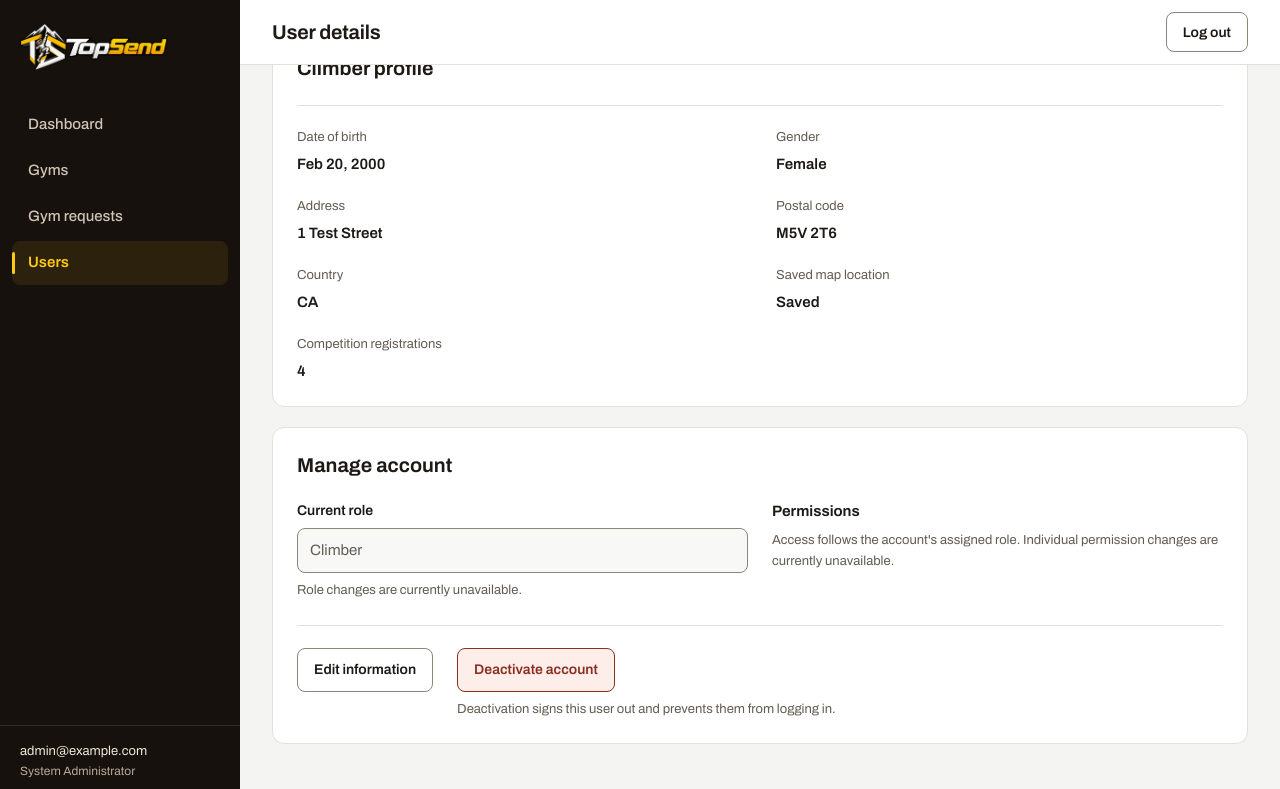
Test: US-009 selected profile editing and status controls › saves only selected-user changes, reloads authoritative details and preserves the return filters
(page scrolled)
Click the button "Edit information" at (365, 670), box [297, 648, 433, 692]
(page scrolled)
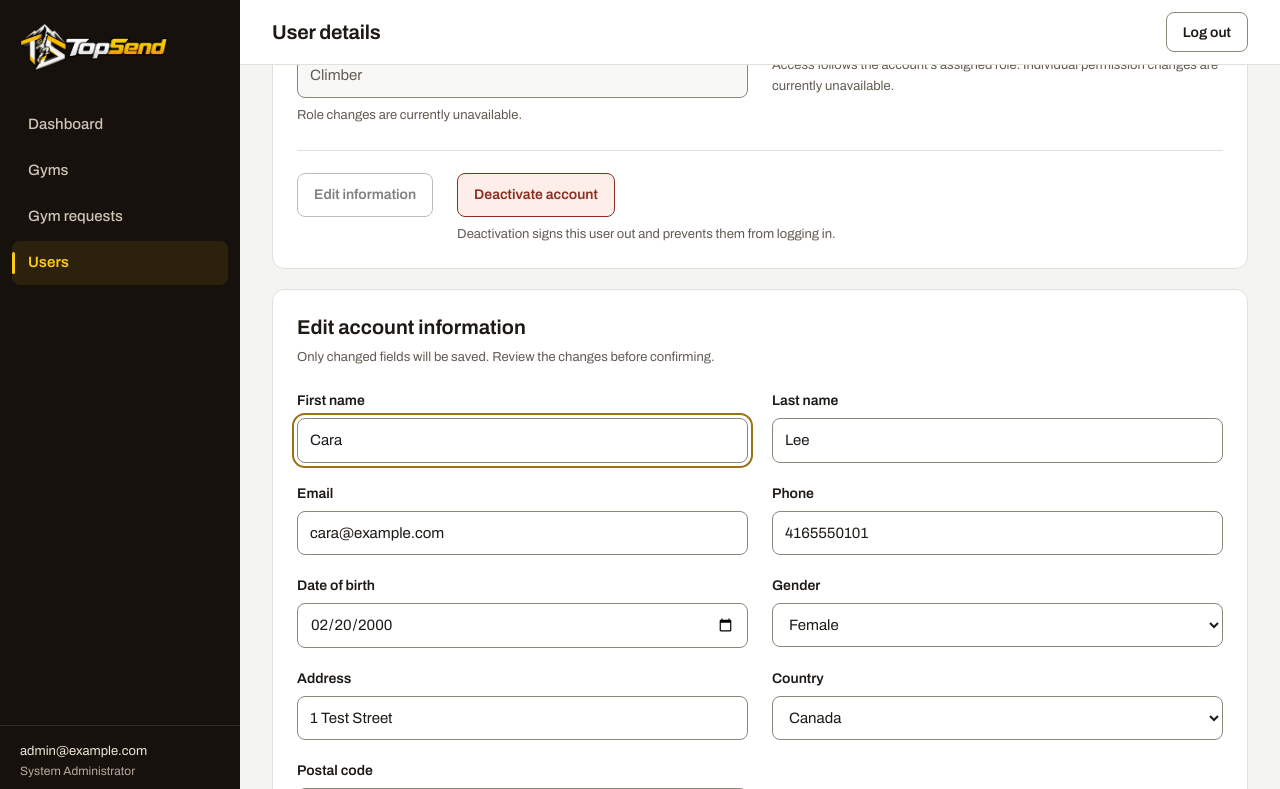
Replace the text in the field labelled "First name" with "Jordan" at (522, 441), box [297, 418, 748, 463]
(page scrolled)
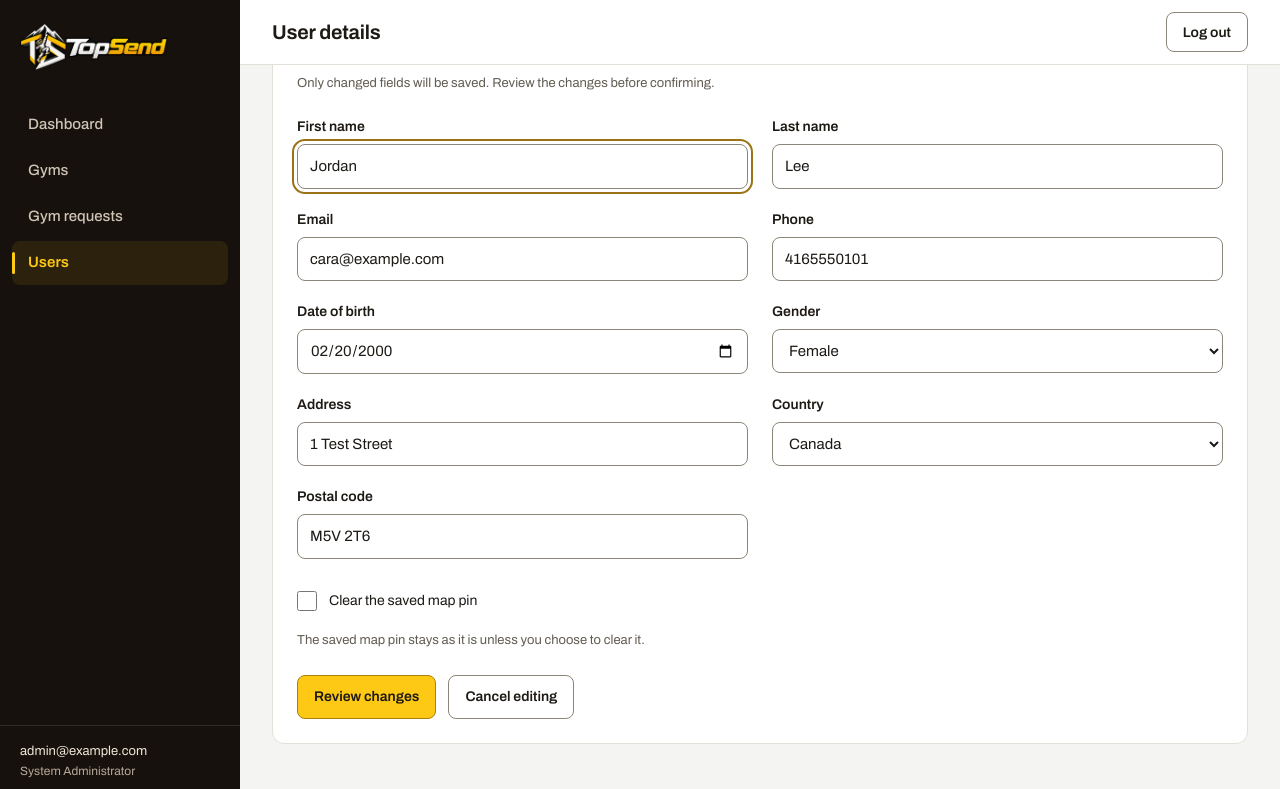
Click the button "Review changes" at (367, 697), box [297, 675, 436, 719]
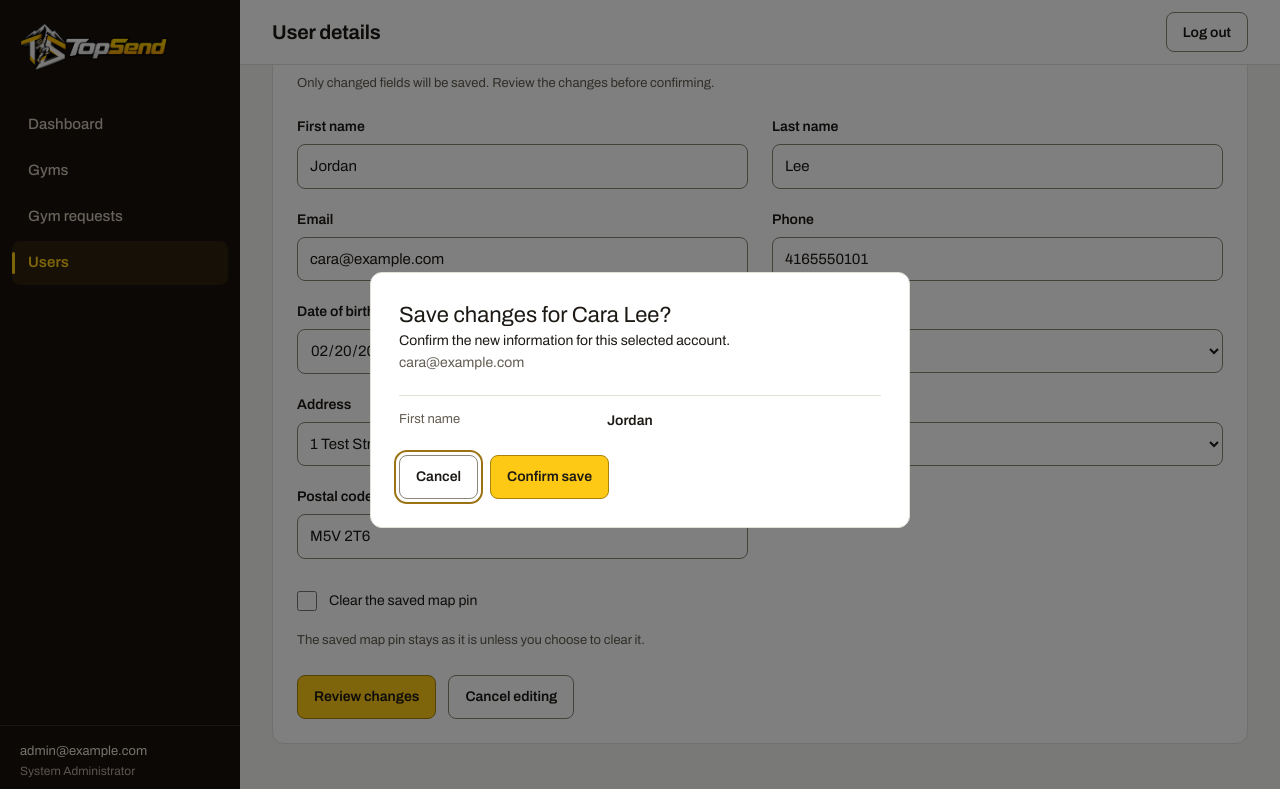
Click the button "Confirm save" at (550, 477), box [490, 455, 609, 499]
(page scrolled)
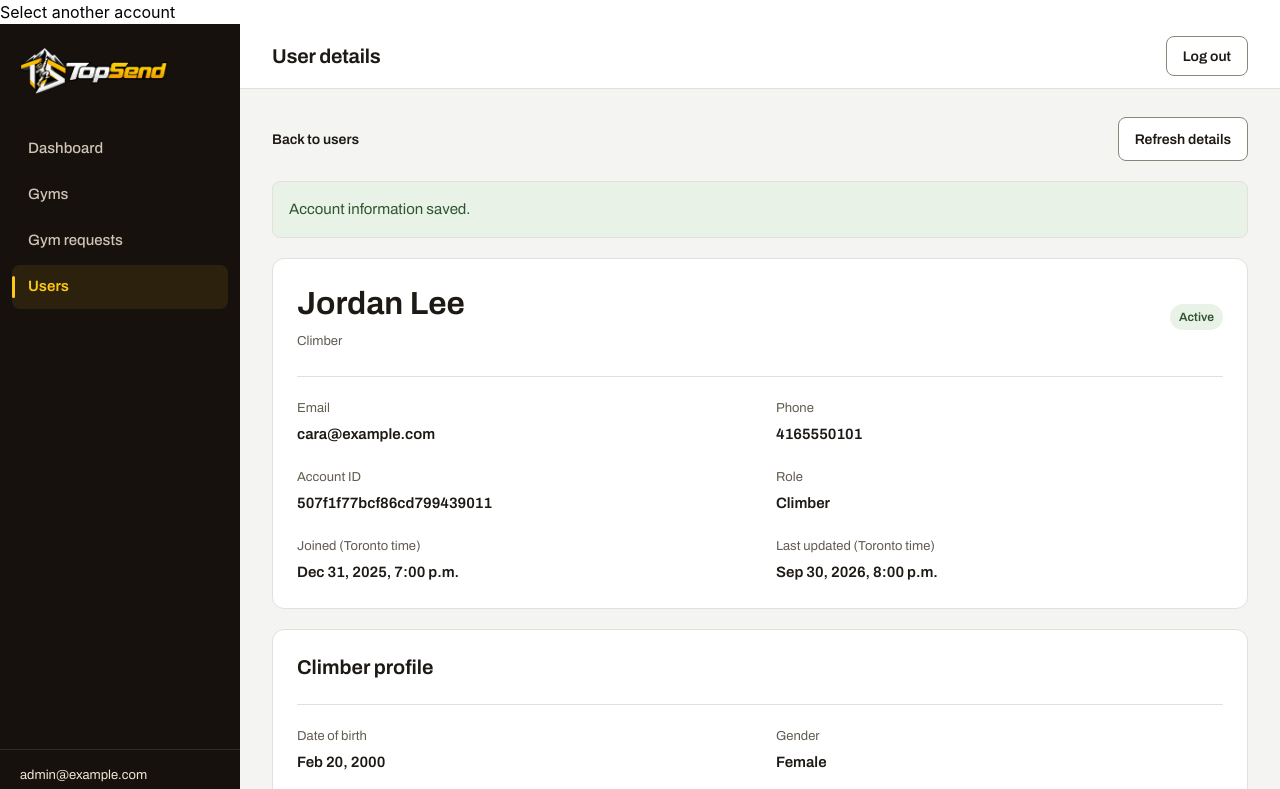
Check: the text "Account information saved." is shown, box [272, 181, 1248, 238]
Check: the heading "Jordan Lee" is shown, box [297, 282, 465, 324]
